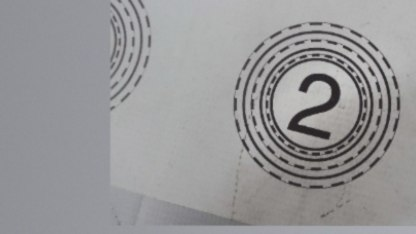2r: (226, 22, 402, 191)
